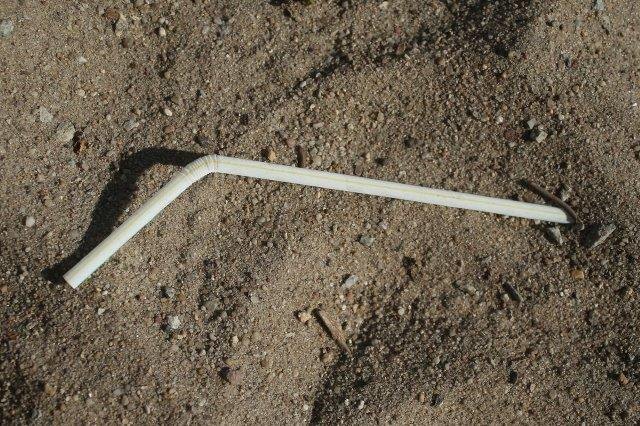sedotan: (69, 155, 566, 283)
